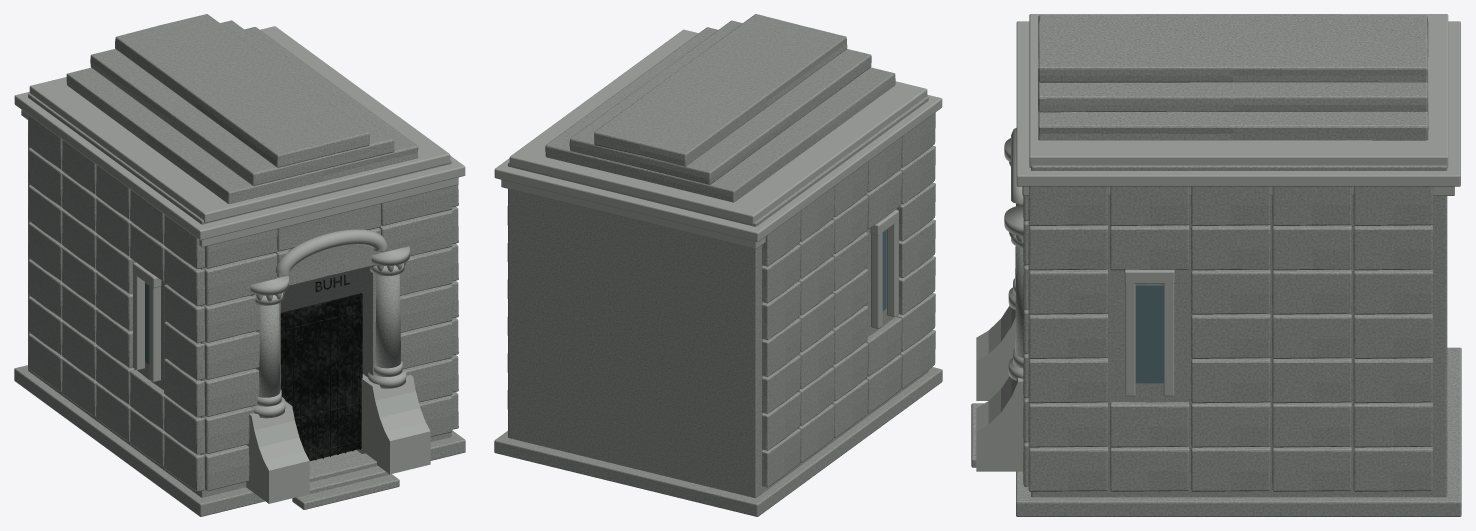
The model's file is buhl-mausoleum.glb.
The picture shows the model from 3 angles, left to right: view 1: azimuth 30°, elevation 25°; view 2: azimuth 150°, elevation 25°; view 3: azimuth 270°, elevation 25°; orthographic projection. The views are drawn at different scales.
Visible parts, largest first — view 1: buhl-mausoleum; view 2: buhl-mausoleum; view 3: buhl-mausoleum.
Part boxes in pixels (x1,y1,x2,y2): buhl-mausoleum: (14, 14, 465, 516); buhl-mausoleum: (494, 14, 942, 516); buhl-mausoleum: (971, 14, 1461, 516).
Size of the model in its own units: 5.16 by 6.14 by 6.82.
Materials: 4 (2 with a texture image).
